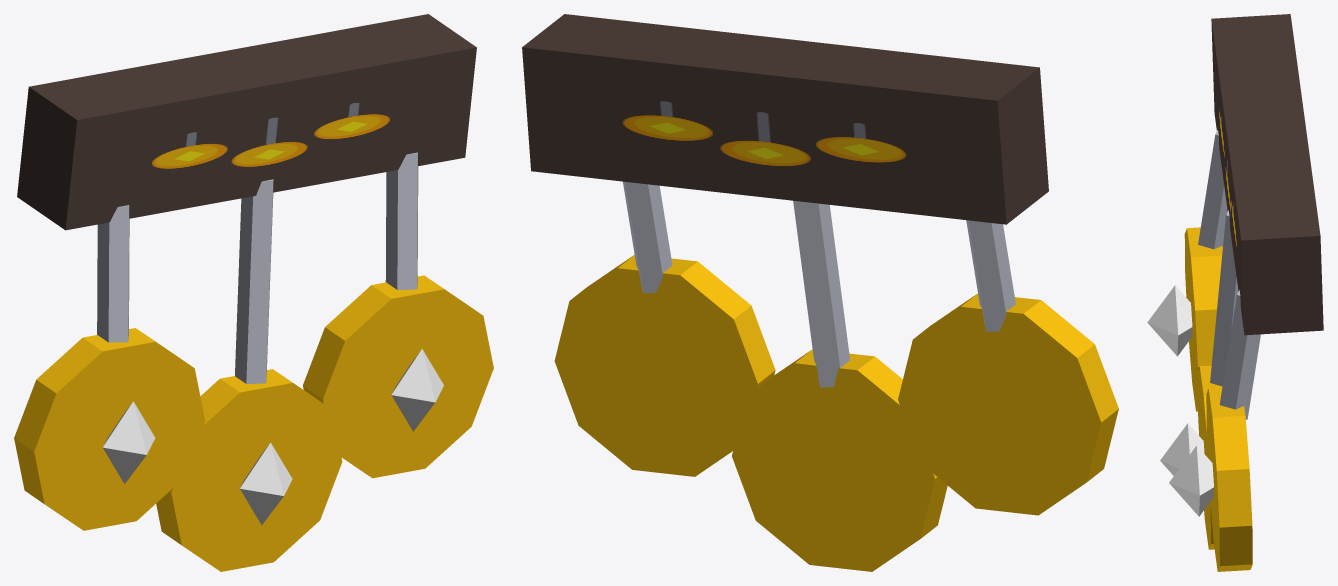
File: trophy_counter_3.glb
3 views of the same model, side by side, from view 1: azimuth 30°, elevation 25°; view 2: azimuth 150°, elevation 25°; view 3: azimuth 270°, elevation 25° (orthographic). The views are drawn at different scales.
Visible parts, largest first — view 1: wear_trophy_counter_3_00_display; view 2: wear_trophy_counter_3_00_display; view 3: wear_trophy_counter_3_00_display.
Boxes of the visible parts, x1,y1,x2,y2 form: wear_trophy_counter_3_00_display: (14,14,493,571); wear_trophy_counter_3_00_display: (522,14,1118,571); wear_trophy_counter_3_00_display: (1147,14,1323,571).
Size of the model in its own units: 0.409 by 0.3996 by 0.1429.
Materials: 4 (1 with a texture image).
